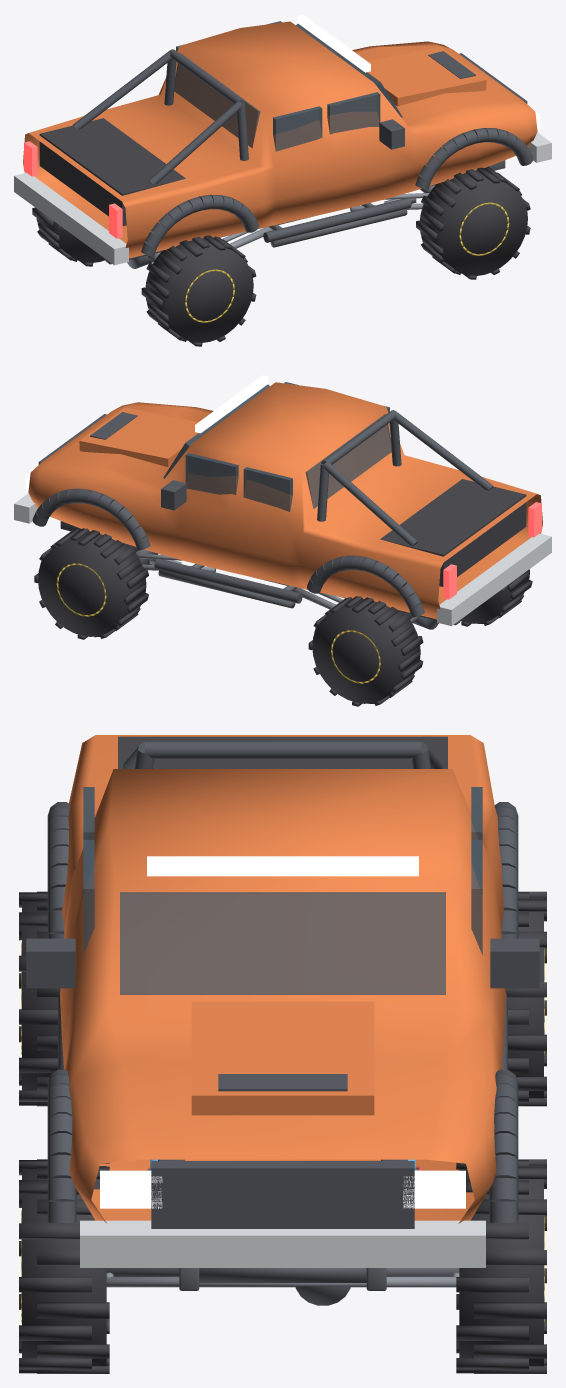
File: jax_test_crawler_01.glb
The picture shows the model from 3 angles, top to bottom: view 1: azimuth 30°, elevation 25°; view 2: azimuth 150°, elevation 25°; view 3: azimuth 270°, elevation 25°; orthographic projection. The views are drawn at different scales.
Visible parts, largest first — view 1: Body_Shell, Wheel_FR, Wheel_RR, Wheel_RL, Chassis_Frame, TrailingArm_RR; view 2: Body_Shell, Wheel_FL, Wheel_RL, Wheel_RR, Chassis_Frame, TrailingArm_RL; view 3: Body_Shell, Wheel_FL, Wheel_FR, Wheel_RL, Wheel_RR, Axle_Front, Chassis_Frame.
Boxes of the visible parts, bbox=[...] form: Body_Shell: bbox=[14, 14, 551, 265]; Wheel_FR: bbox=[416, 166, 530, 279]; Wheel_RR: bbox=[141, 235, 256, 346]; Wheel_RL: bbox=[32, 207, 105, 266]; Chassis_Frame: bbox=[58, 160, 505, 264]; TrailingArm_RR: bbox=[222, 227, 272, 248]; Body_Shell: bbox=[14, 375, 551, 625]; Wheel_FL: bbox=[34, 528, 148, 639]; Wheel_RL: bbox=[308, 596, 423, 706]; Wheel_RR: bbox=[460, 569, 532, 626]; Chassis_Frame: bbox=[60, 521, 507, 625]; TrailingArm_RL: bbox=[293, 587, 343, 609]; Body_Shell: bbox=[26, 735, 539, 1267]; Wheel_FL: bbox=[456, 1159, 546, 1373]; Wheel_FR: bbox=[19, 1159, 109, 1373]; Wheel_RL: bbox=[505, 891, 546, 1106]; Wheel_RR: bbox=[19, 891, 60, 1106]; Axle_Front: bbox=[106, 1268, 459, 1305]; Chassis_Frame: bbox=[158, 1159, 407, 1290].
Size of the model in its own units: 4.53 by 2.09 by 2.37.
